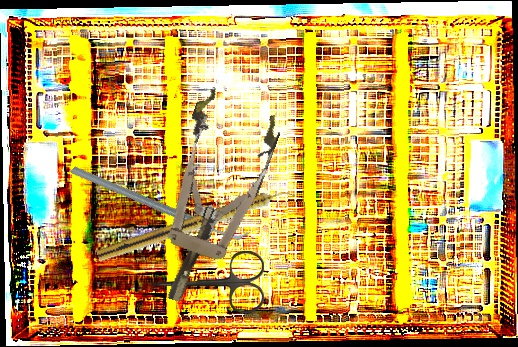Chopper: (70, 111, 250, 295)
Handpiece: (95, 182, 297, 267)
Iris Scissors: (148, 251, 264, 314)
Speculum: (130, 86, 287, 315)
